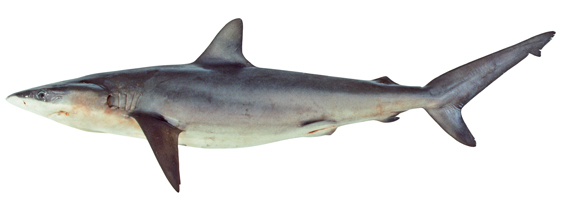fish: (5, 18, 556, 194)
